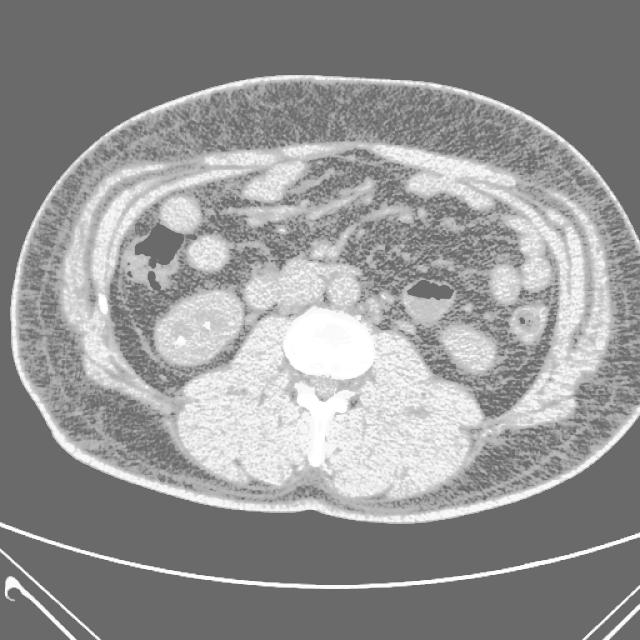STONE: (125, 163, 546, 380)
